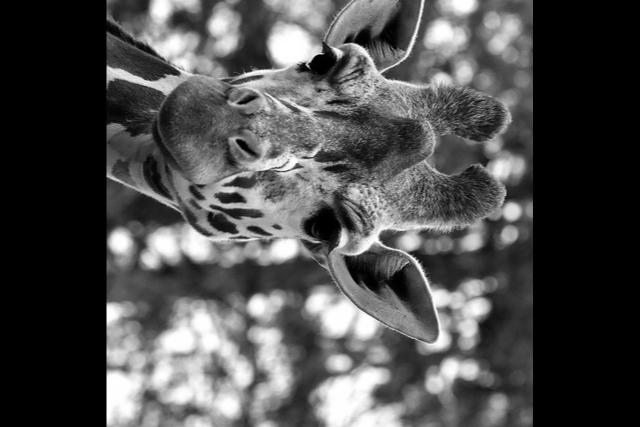Non_Gorille: (107, 0, 532, 361)
